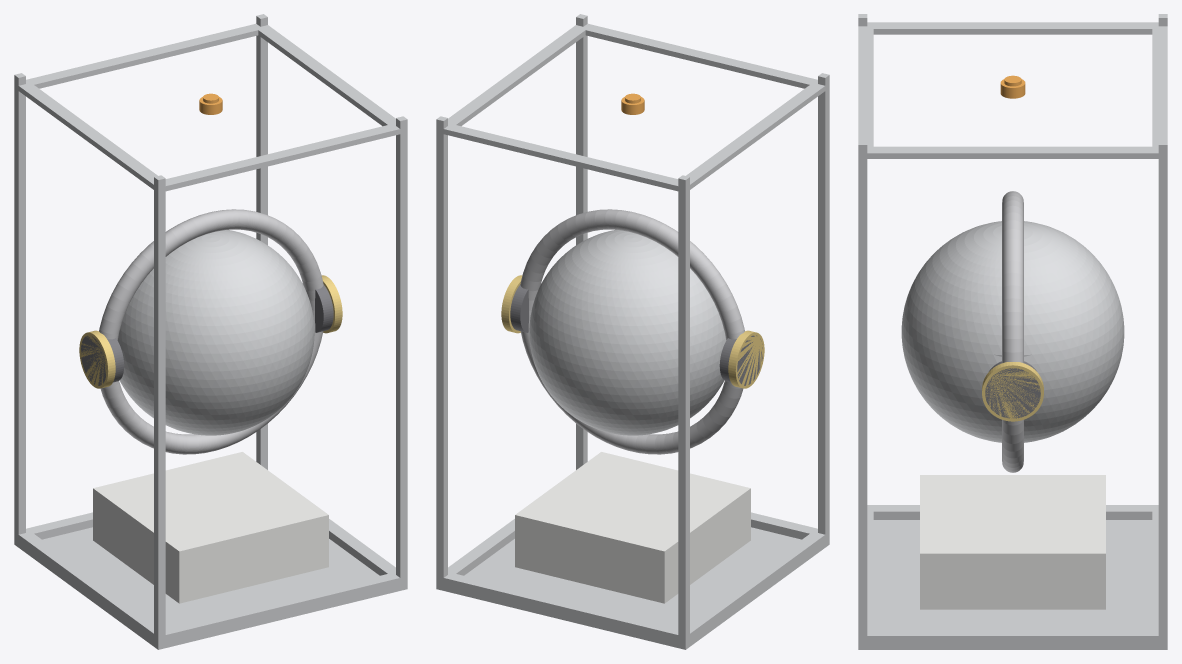
File: power15_control_moment_gyro.glb
The picture shows the model from 3 angles, left to right: view 1: azimuth 30°, elevation 25°; view 2: azimuth 150°, elevation 25°; view 3: azimuth 270°, elevation 25°; orthographic projection. The views are drawn at different scales.
Parts seen in each view (by area): view 1: slot_frame, rotor_sphere, electronics, frame_rails, gimbal_ring, gimbal_motors, gimbal_motor_caps; view 2: slot_frame, rotor_sphere, electronics, frame_rails, gimbal_ring, gimbal_motor_caps, gimbal_motors; view 3: rotor_sphere, slot_frame, electronics, frame_rails, gimbal_ring, gimbal_motor_caps, gimbal_motors, port_1.
Part boxes in pixels (x1,y1,x2,y2): slot_frame: (14,14,407,649); rotor_sphere: (117,230,314,435); electronics: (93,452,328,603); frame_rails: (14,23,407,644); gimbal_ring: (99,209,323,454); gimbal_motors: (81,285,333,385); gimbal_motor_caps: (79,275,342,388); slot_frame: (436,14,829,649); rotor_sphere: (529,230,726,435); electronics: (515,452,750,603); frame_rails: (436,23,829,644); gimbal_ring: (520,209,744,454); gimbal_motor_caps: (501,275,764,388); gimbal_motors: (510,285,762,385); rotor_sphere: (901,221,1124,442); slot_frame: (858,14,1167,649); electronics: (920,475,1105,609); frame_rails: (858,22,1167,644); gimbal_ring: (1002,191,1023,472); gimbal_motor_caps: (982,362,1043,421); gimbal_motors: (985,361,1040,418); port_1: (1000,75,1025,98).
Bounding box in the file's own units: 1 × 1.8 × 1.
